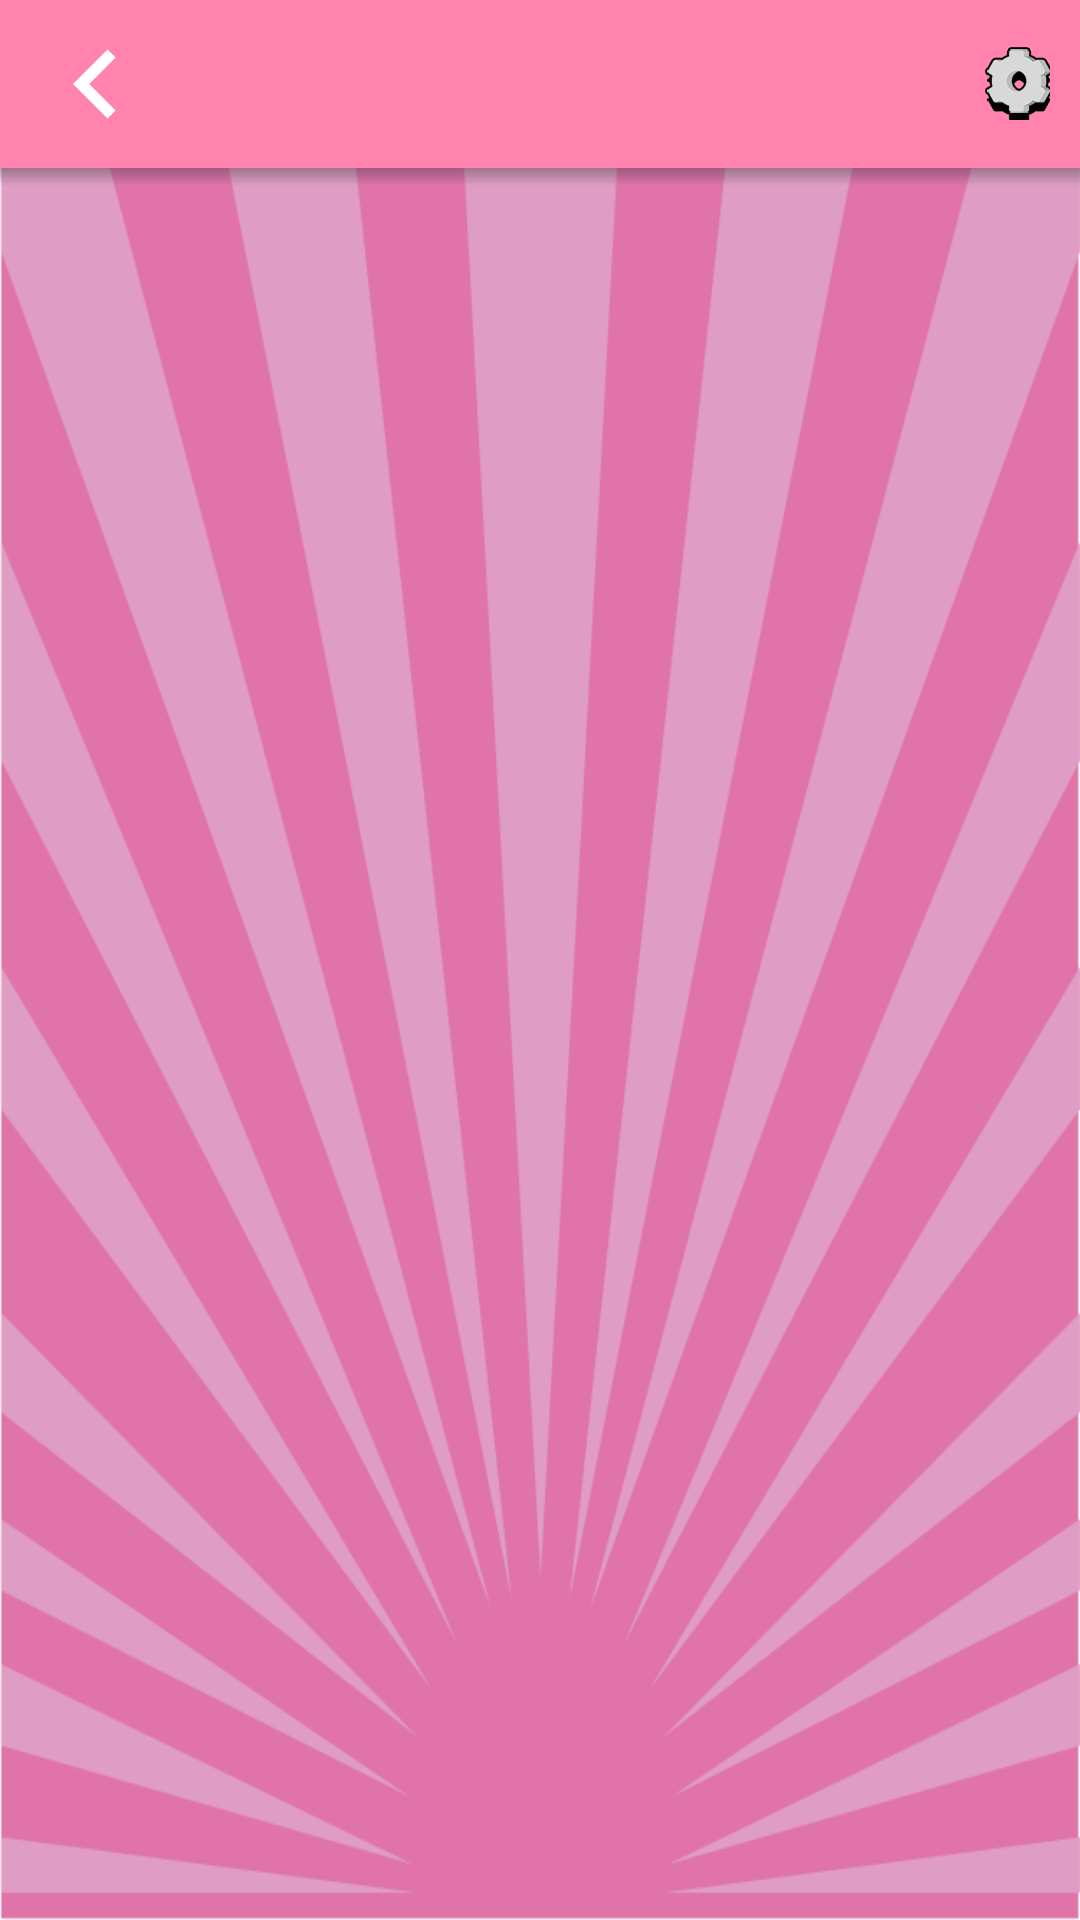

Named icons in this screenshot (1080 x 1920) and their bounding boxes, (x1, y1, x2, y2):
back: (73, 49, 116, 119)
settings: (985, 47, 1050, 120)
